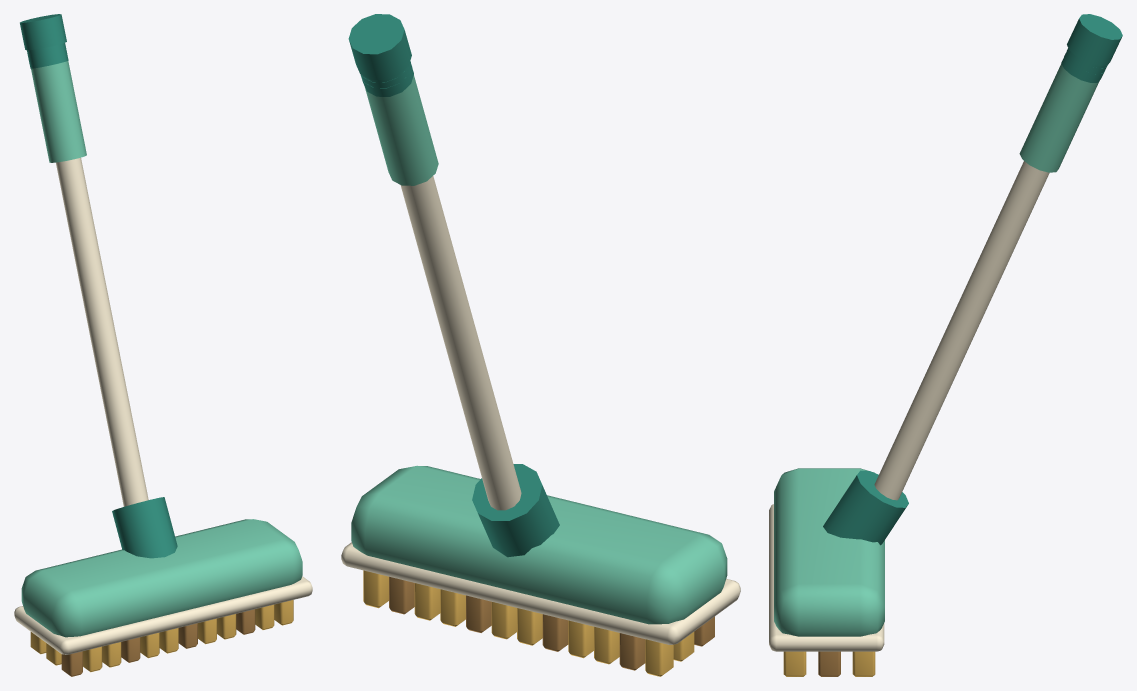
File: large_brush.glb
The picture shows the model from 3 angles, left to right: view 1: azimuth 30°, elevation 25°; view 2: azimuth 150°, elevation 25°; view 3: azimuth 270°, elevation 25°; orthographic projection. The views are drawn at different scales.
Visible parts, largest first — view 1: large_brush; view 2: large_brush; view 3: large_brush.
Part boxes in pixels (<box>): large_brush: <box>14,14,312,676</box>; large_brush: <box>341,14,740,676</box>; large_brush: <box>769,14,1122,676</box>.
Size of the model in its own units: 0.79 by 1.61 by 0.8603.
Materials: 1 (1 with a texture image).
